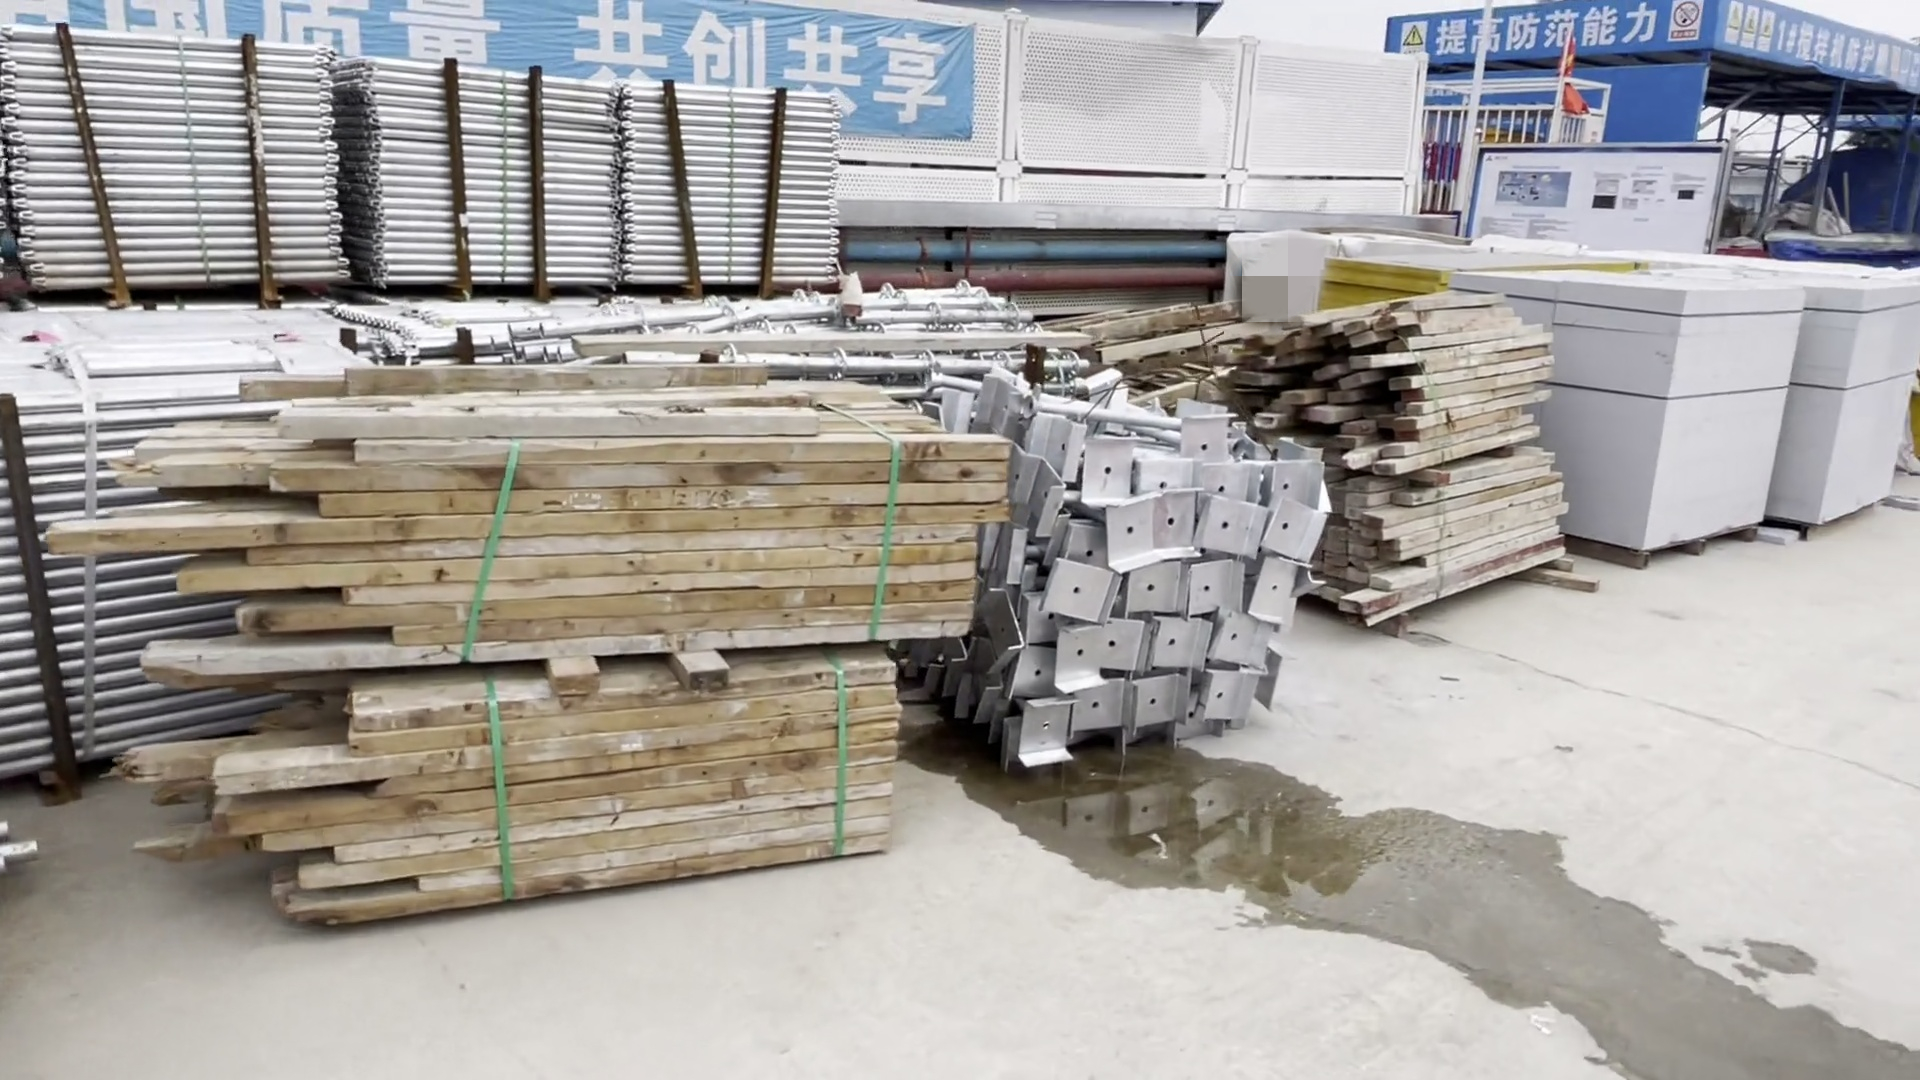brick: (1458, 251, 1920, 582)
scaffold: (21, 22, 860, 367)
slogan: (1379, 1, 1909, 76)
wood: (91, 368, 1036, 927)
